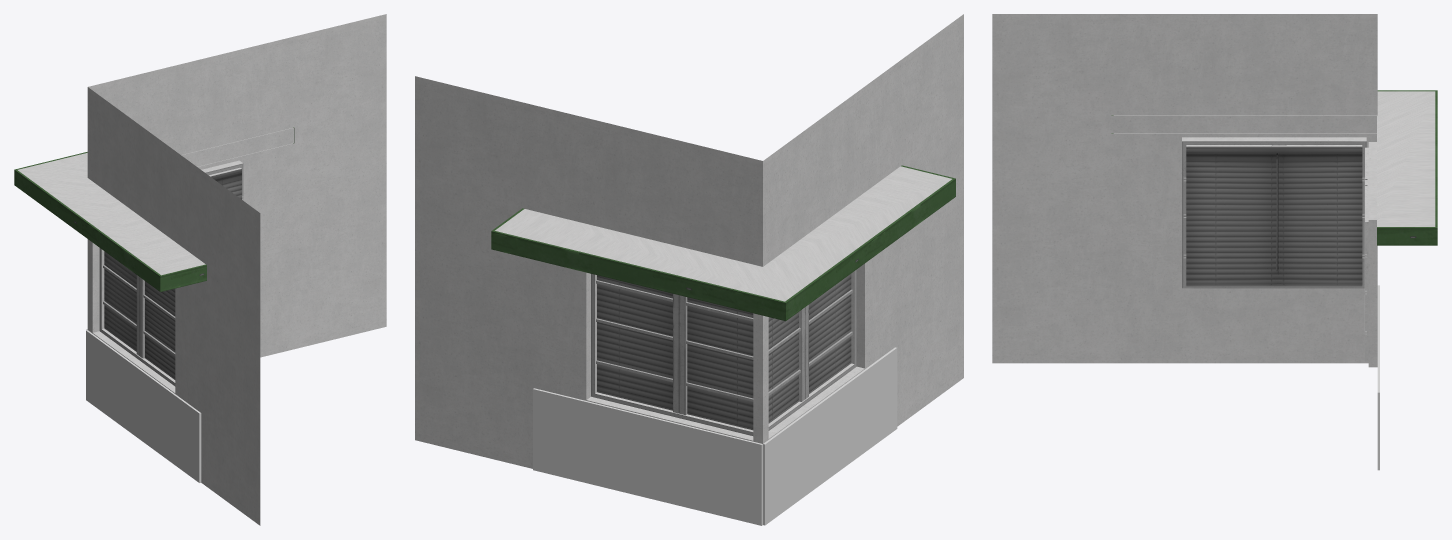
File: MB_Wall_Window_A_23.fbx
3 renders of one model, left to right at view 1: azimuth 30°, elevation 25°; view 2: azimuth 150°, elevation 25°; view 3: azimuth 270°, elevation 25°, orthographic. The views are drawn at different scales.
Parts seen in each view (by area): view 1: MB_Wall_Window_A_23; view 2: MB_Wall_Window_A_23; view 3: MB_Wall_Window_A_23.
Boxes of the visible parts, x1,y1,x2,y2 form: MB_Wall_Window_A_23: (14, 14, 386, 525); MB_Wall_Window_A_23: (415, 14, 963, 525); MB_Wall_Window_A_23: (992, 14, 1437, 470).
Bounding box in the file's own units: 462 × 400 × 462.
